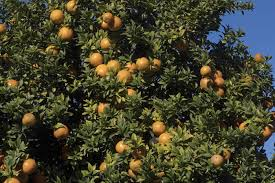orange: (51, 122, 69, 139), (150, 119, 167, 133), (94, 64, 110, 78), (134, 57, 149, 70)
